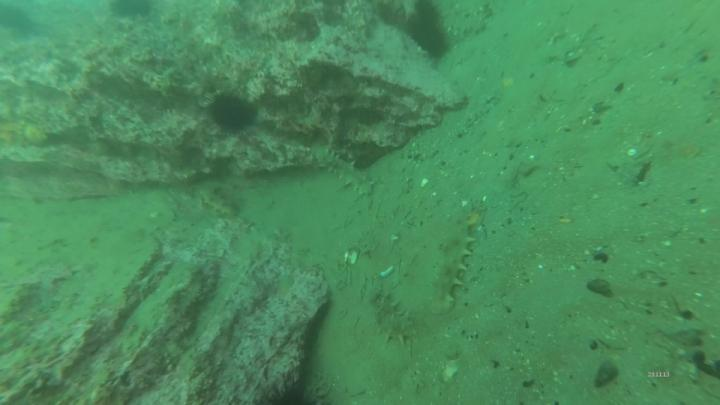echinus: (202, 90, 266, 138), (408, 1, 455, 60)
holothurian: (432, 211, 479, 315), (314, 148, 380, 199), (371, 290, 421, 351), (196, 181, 244, 221)
